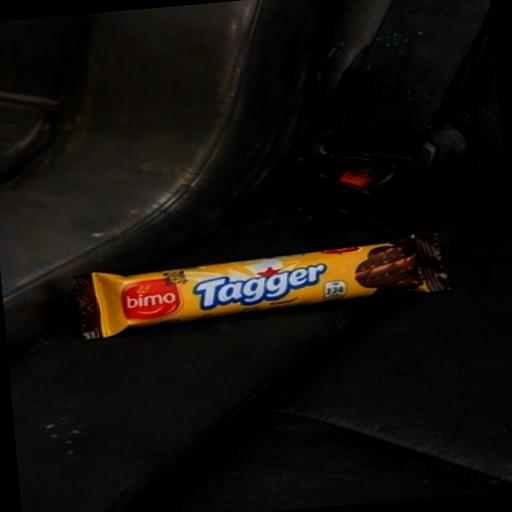tagger: (23, 154, 512, 379)
